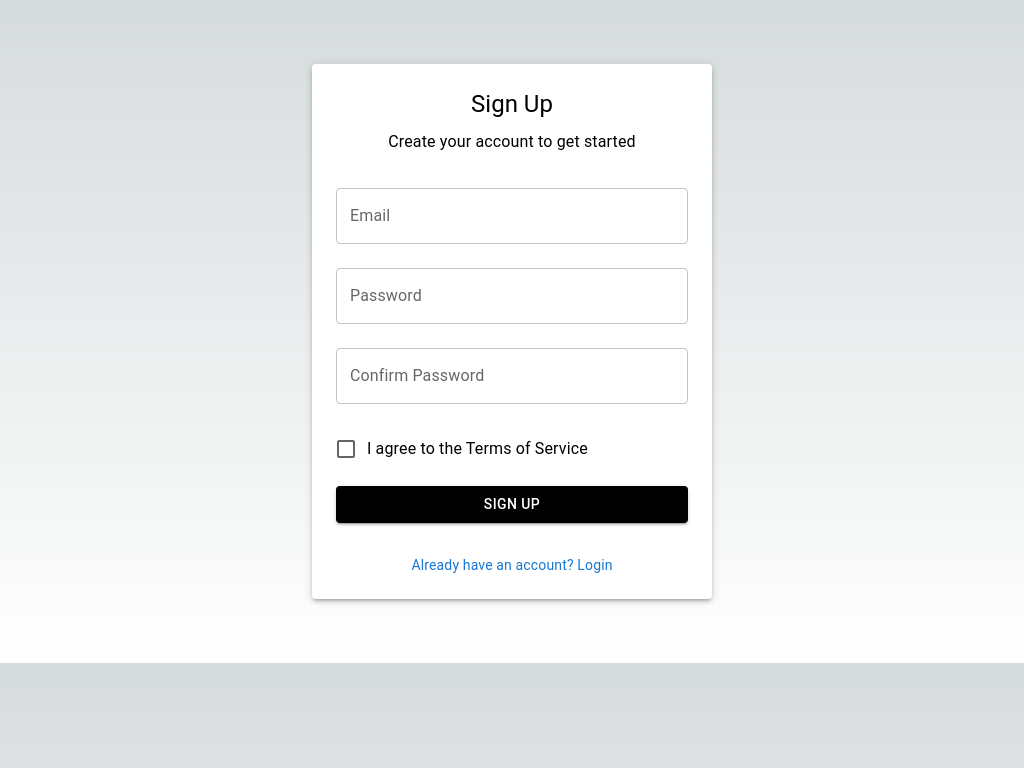
Test case: AuthForm Login Component - Negative Tests › 無効なメールアドレスがエラーを引き起こす
In the field labelled "Email": (512,216) [336,188,688,244], type "invalid-email"
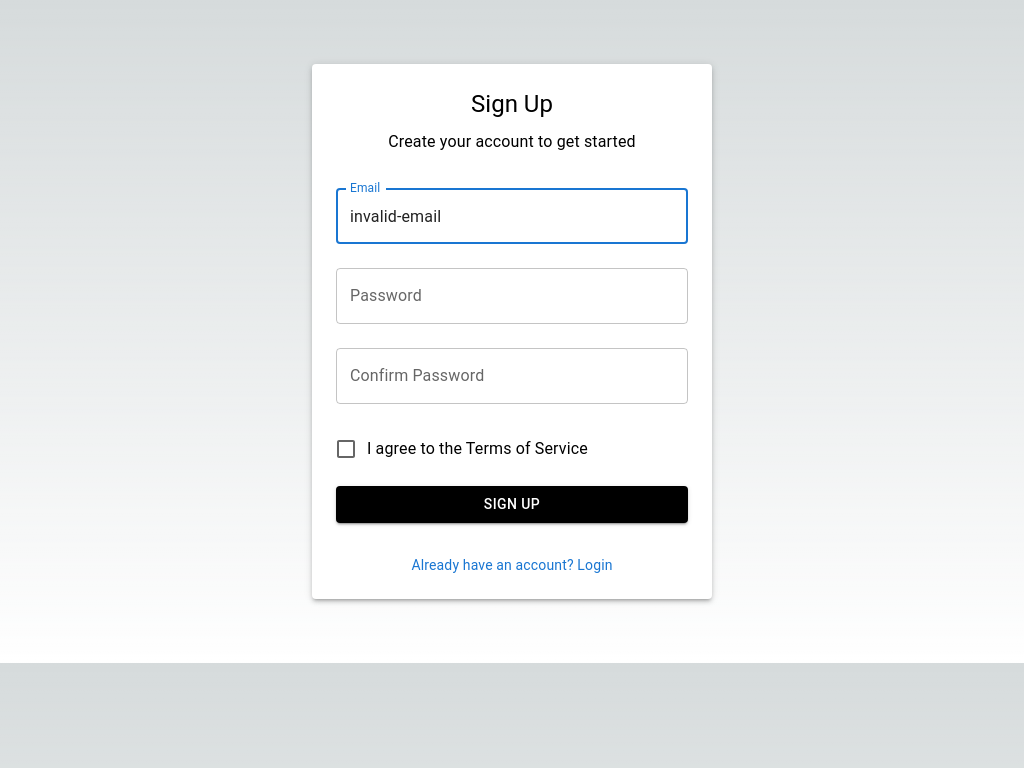
Click the button with test id "loginButton": (512,505) [336,486,688,523]
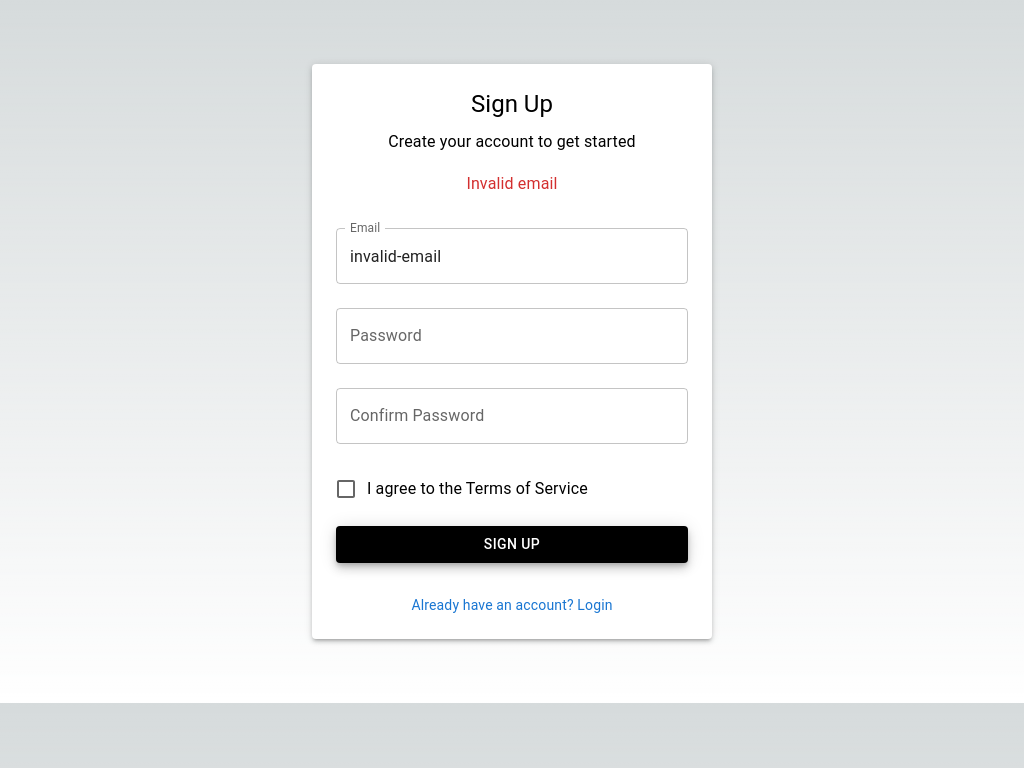
Check: the text "Invalid email" is shown, box [466,172,558,196]
